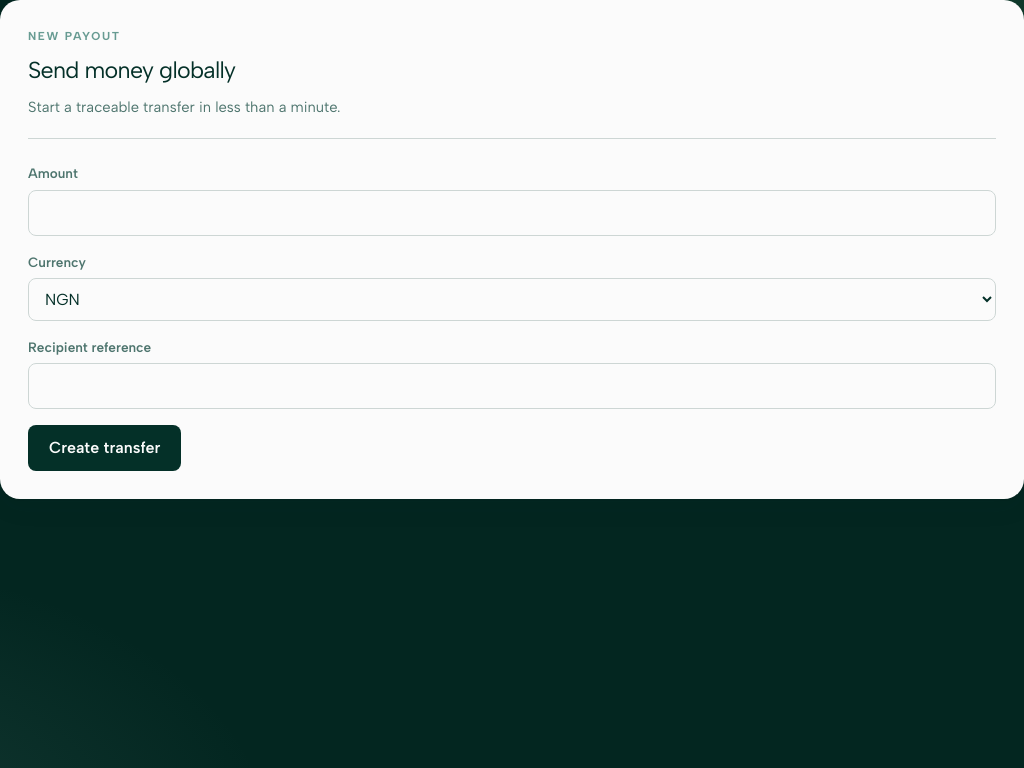
Scenario: TransferForm › create_form_surfaces_api_error
Type "0" into the field labelled "Amount" at (512, 212), box [28,190,996,236]
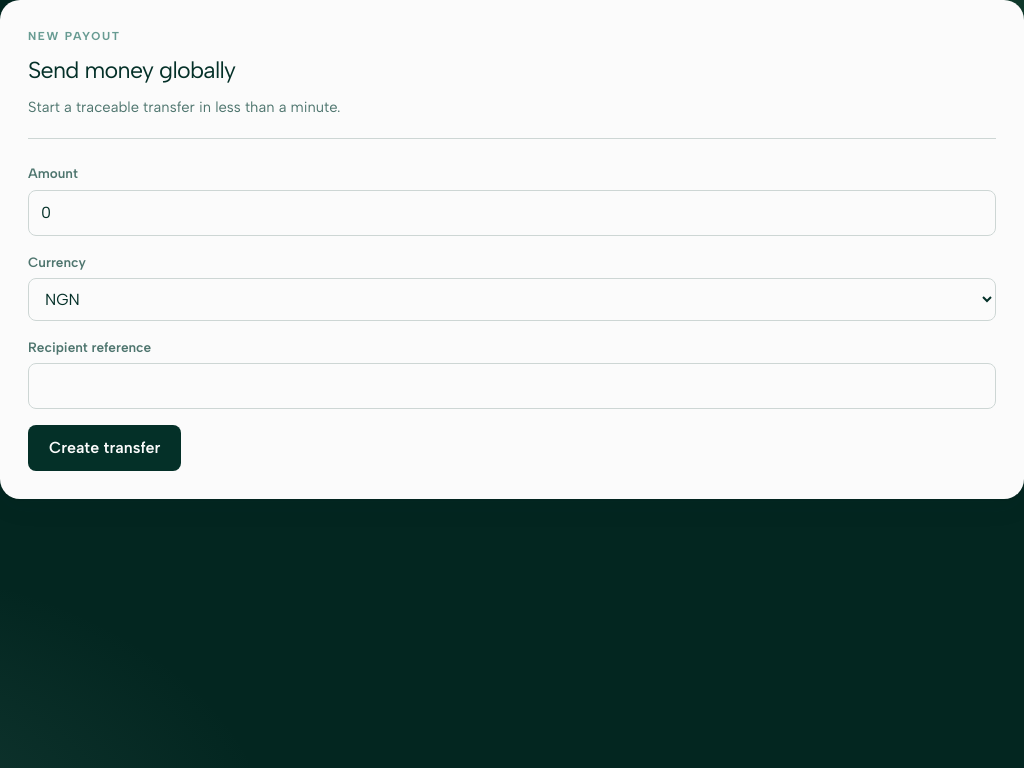
Type "ACC-1" into the field labelled "Recipient reference" at (512, 386), box [28,363,996,409]
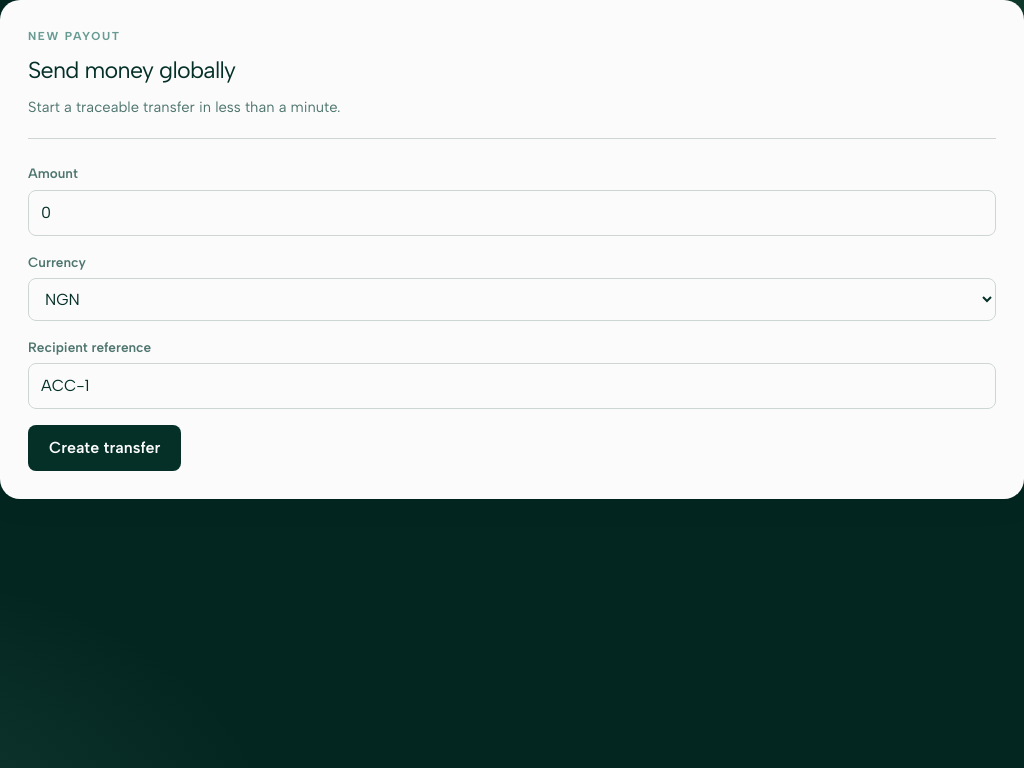
Click the button "Create transfer" at (105, 448), box [28,425,181,471]
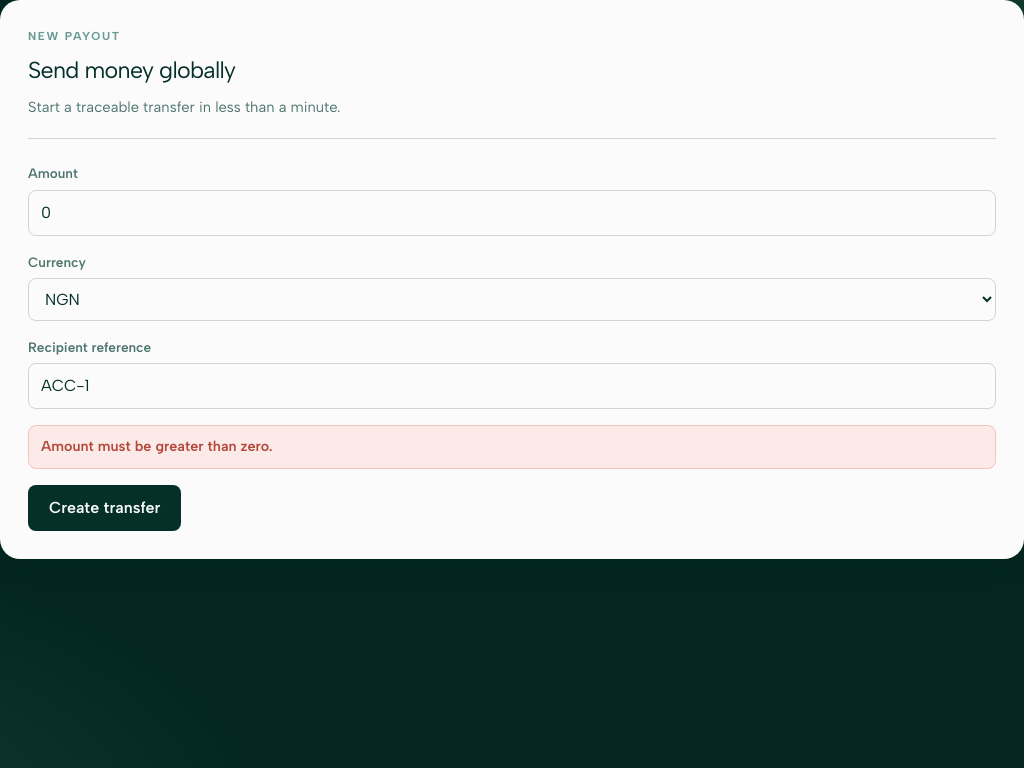
Expected: the text "Amount must be greater than zero." is shown, [28,425,996,469]
